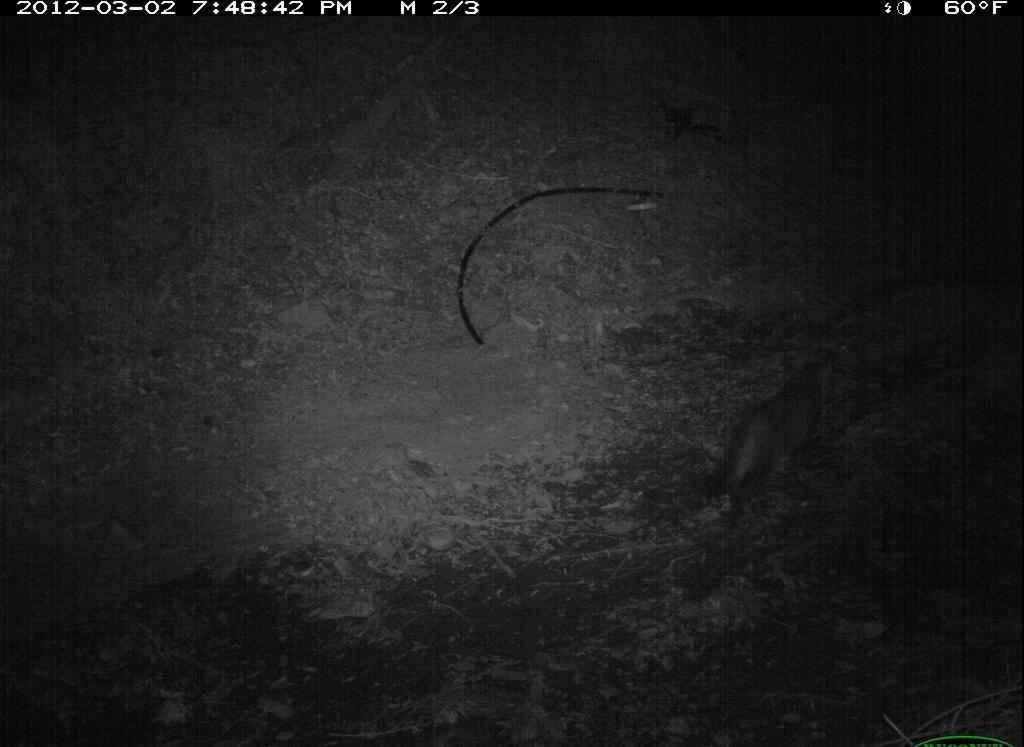cat: (693, 341, 862, 546)
